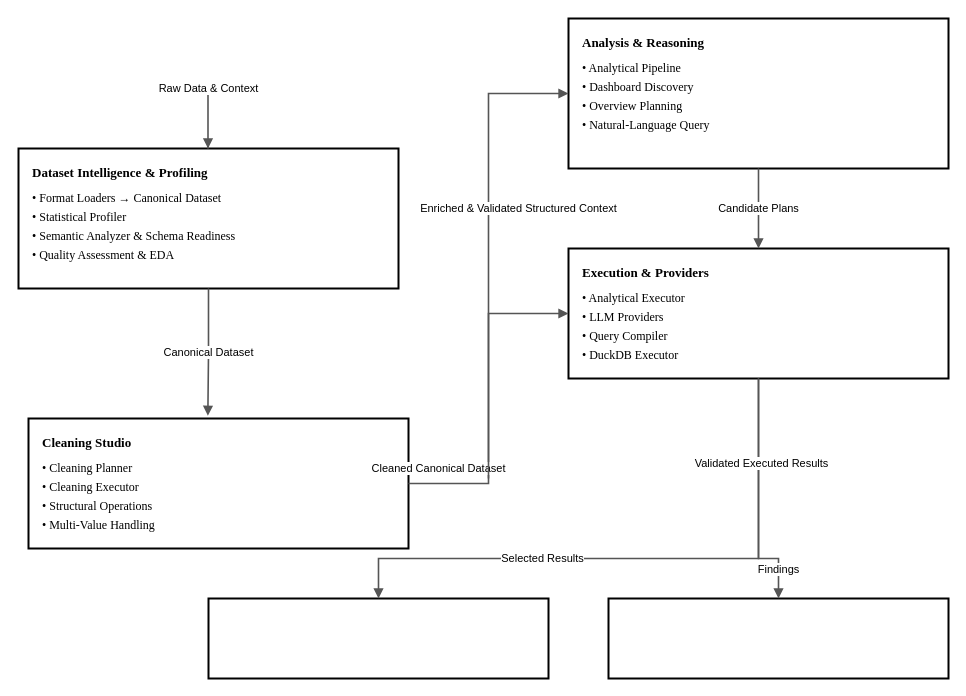
This 966x696 diagram has some shape labels left out. The centre of each missing label's shape, as x and y in pixels:
"Dashboard Delivery • Dashboard Discovery Panels • Rendered in Web Workspaces" belongs at point 378,638.
"Insight Generation & Chat • Insight Generation • Dataset Chat" belongs at point 778,638.
